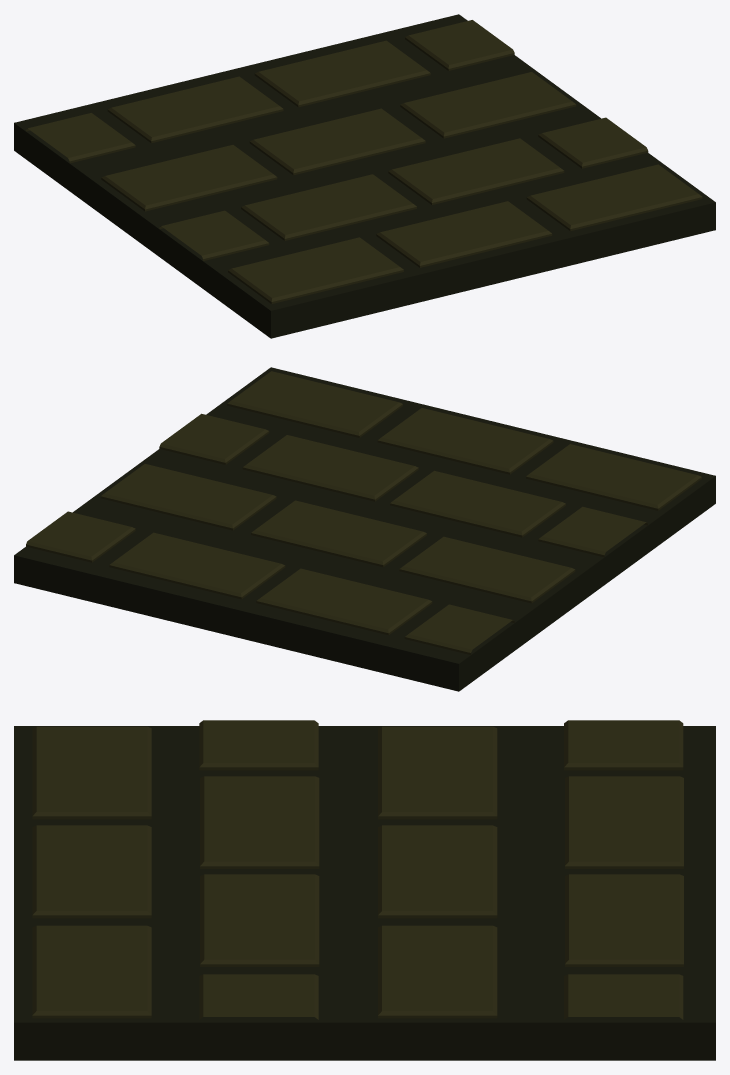
File: Pared del tunel viejo.fbx
3 views of the same model, one above another, from view 1: azimuth 30°, elevation 25°; view 2: azimuth 150°, elevation 25°; view 3: azimuth 270°, elevation 25° (orthographic). The views are drawn at different scales.
Parts seen in each view (by area): view 1: polySurface524; view 2: polySurface524; view 3: polySurface524.
Part boxes in pixels (x1,y1,x2,y2): polySurface524: (14,14,715,338); polySurface524: (14,367,715,691); polySurface524: (14,720,715,1060).
Bounding box in the file's own units: 2.99 × 0.2063 × 2.99.
